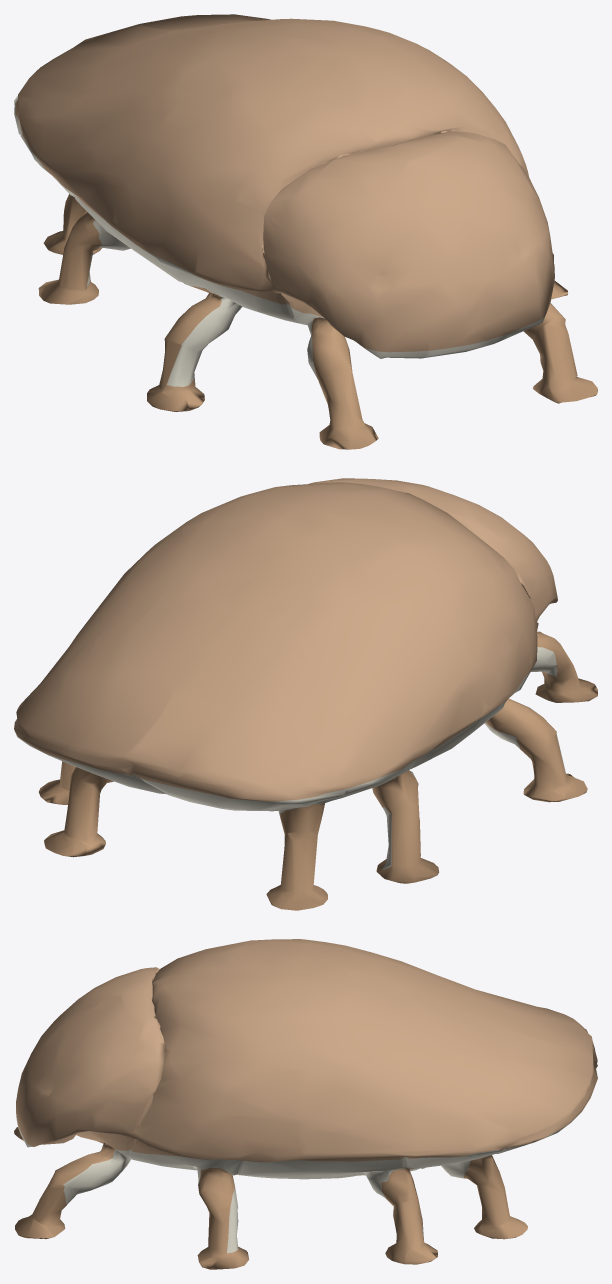
Rendered from skitter.glb.
3 views of the same model, one above another, from view 1: azimuth 30°, elevation 25°; view 2: azimuth 150°, elevation 25°; view 3: azimuth 270°, elevation 25° (orthographic). The views are drawn at different scales.
Visible parts, largest first — view 1: skitter; view 2: skitter; view 3: skitter.
Part boxes in pixels (left/top/right/bottom): skitter: left=14, top=14, right=597, bottom=449; skitter: left=14, top=478, right=597, bottom=910; skitter: left=14, top=939, right=597, bottom=1269.
Bounding box in the file's own units: 0.9352 × 0.5495 × 1.31.
